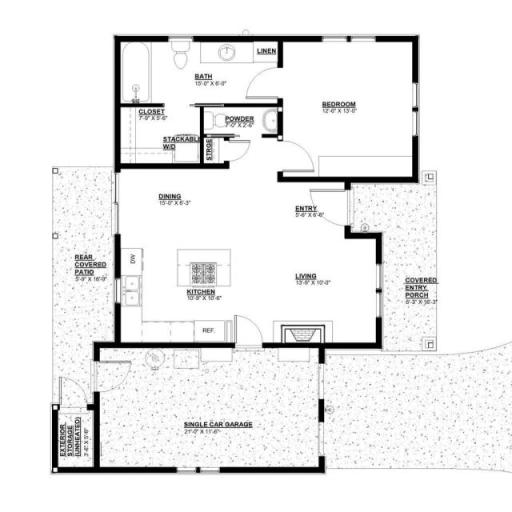bathroom: (123, 36, 274, 98)
bedroom: (285, 46, 414, 178)
closet: (132, 106, 210, 161)
garage: (108, 350, 323, 476)
hall: (249, 182, 379, 351)
kitchen: (126, 177, 235, 339)
porch: (387, 182, 446, 356)
